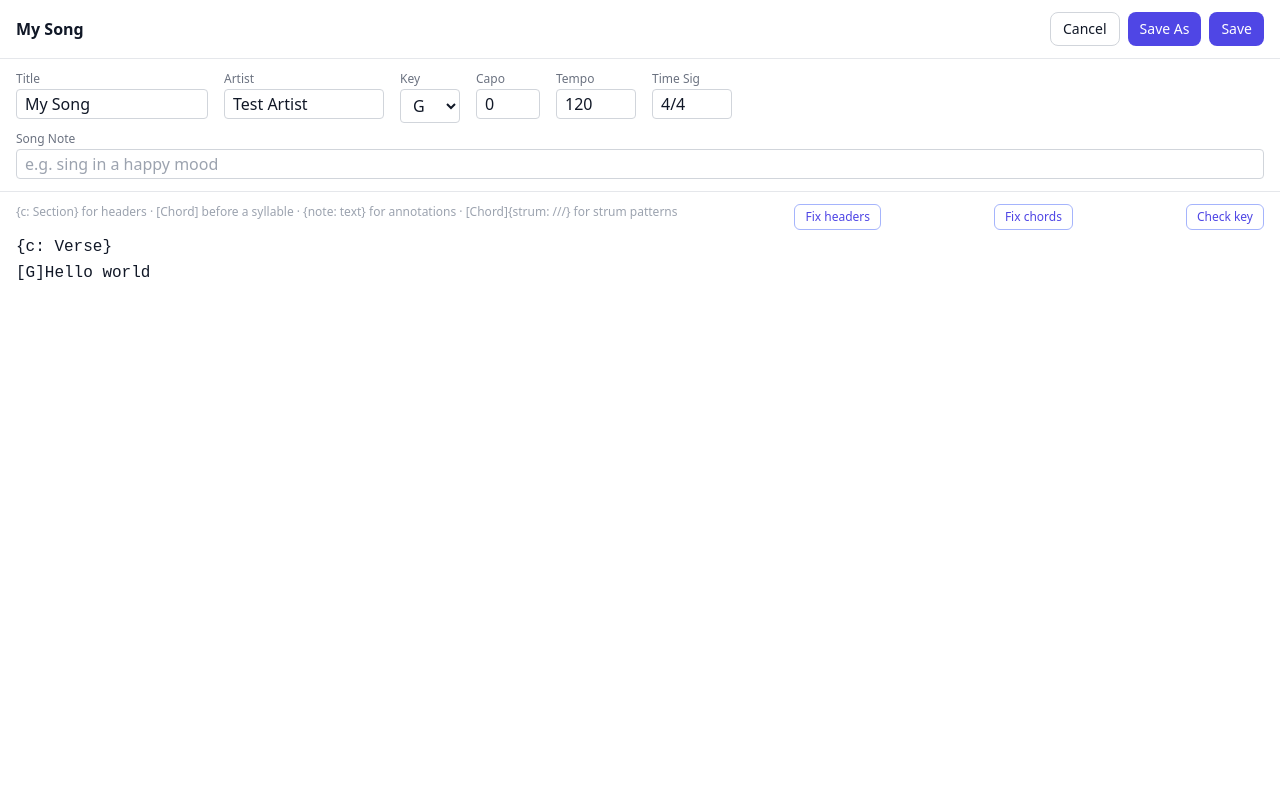
it: SongEditor — Check key › opens the KeyCheckModal (not a toast) when the key matches but outlier chords exist
Replace the text in the text box named "Song content" with "[G]a [C]b [D]c [Em]d [G]a [C]b [D]c [Em]d [G]a [F]b" at (640, 260), box [16,234,1264,286]
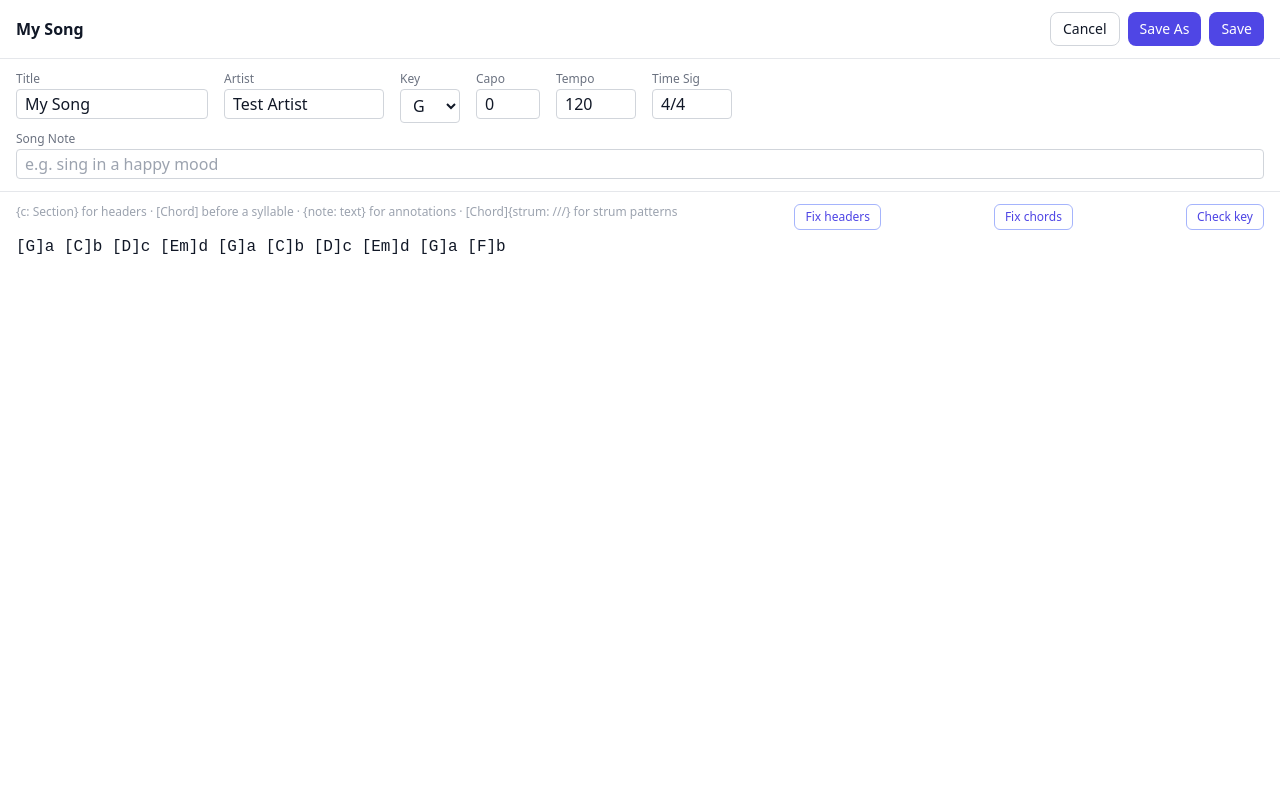
Click the button "Check key" at (1225, 217), box [1186,204,1264,230]
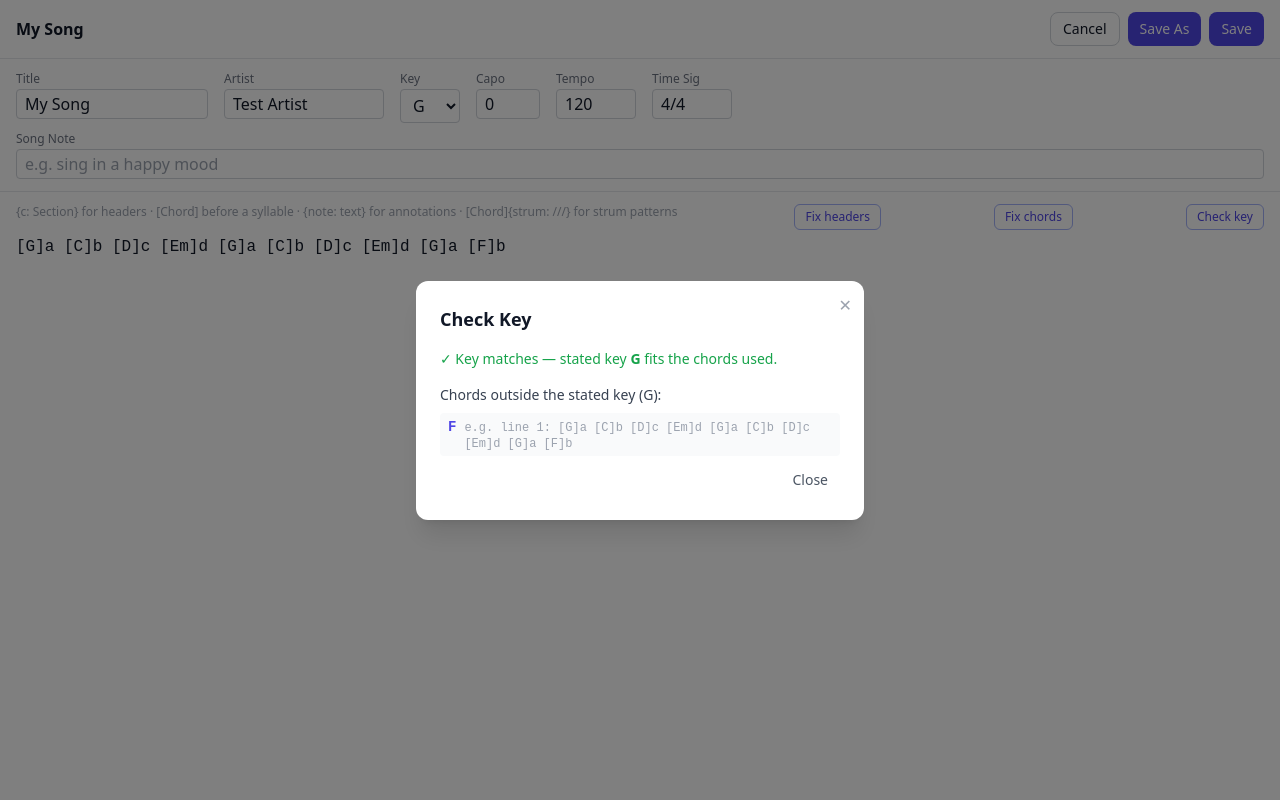
Expected: the text "✓ Key matches — stated key G fits the chords used." is shown, [440,348,777,368]
Expected: the text "F" is shown, [448,416,456,436]
